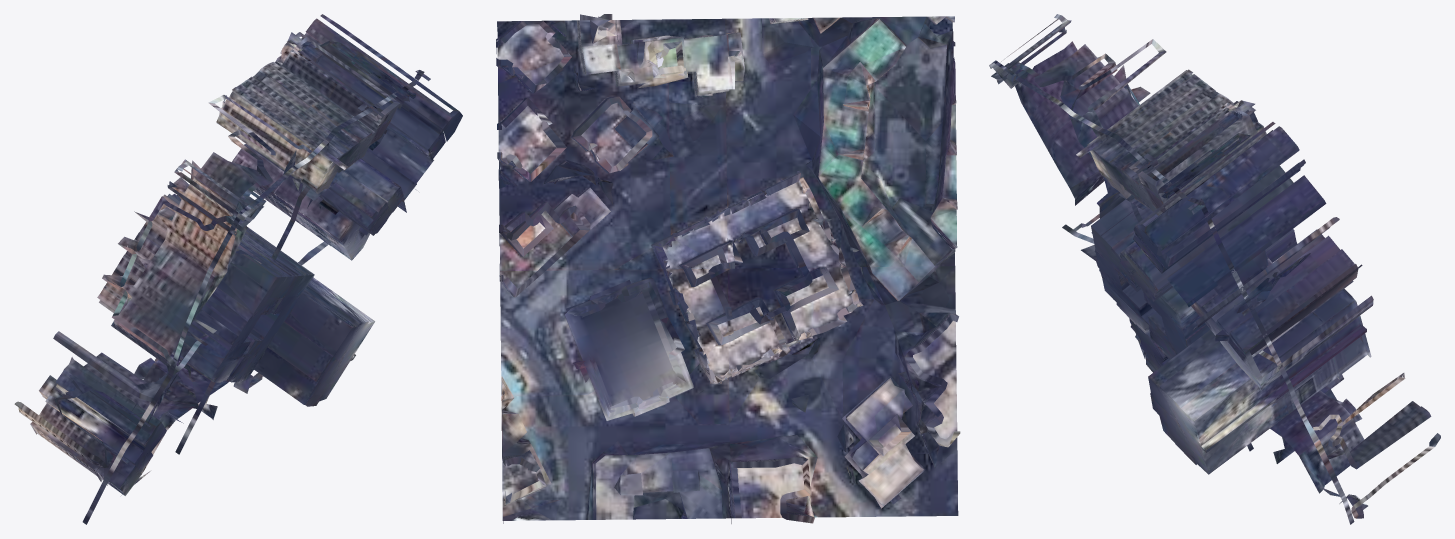
3 views of the same model, side by side, from view 1: azimuth 30°, elevation 25°; view 2: azimuth 150°, elevation 25°; view 3: azimuth 270°, elevation 25° (orthographic). The views are drawn at different scales.
Size of the model in its own units: 176 by 158 by 158.
Materials: 2 (2 with a texture image).
